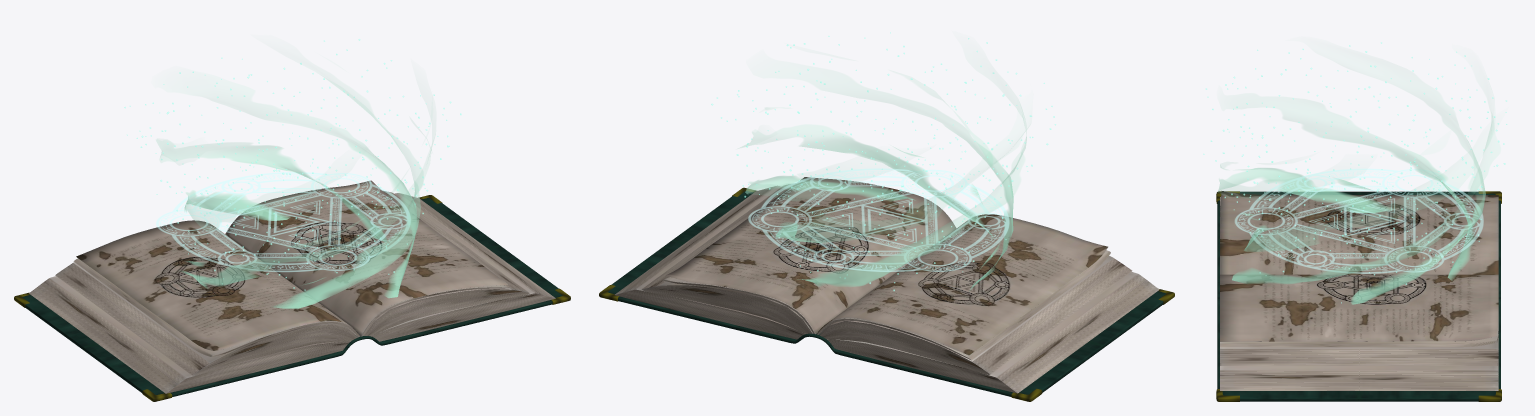
Rendered from hat-transformed.glb.
3 views of the same model, side by side, from view 1: azimuth 30°, elevation 25°; view 2: azimuth 150°, elevation 25°; view 3: azimuth 270°, elevation 25° (orthographic). The views are drawn at different scales.
Visible parts, largest first — view 1: Cube.001_Paper Block_0, Magic Storm_Magic Storm_0, Magic Circle_Magic Circle_0, Cover_Cover_0, Magic Particle_Magic Particle_0, Cover.Corner_Cover Corner_0; view 2: Cube.001_Paper Block_0, Magic Storm_Magic Storm_0, Magic Circle_Magic Circle_0, Cover_Cover_0, Magic Particle_Magic Particle_0, Cover.Corner_Cover Corner_0; view 3: Cube.001_Paper Block_0, Magic Storm_Magic Storm_0, Magic Circle_Magic Circle_0, Cover_Cover_0, Magic Particle_Magic Particle_0, Cover.Corner_Cover Corner_0.
Boxes of the visible parts, x1,y1,x2,y2 form: Cube.001_Paper Block_0: (29, 180, 555, 393); Magic Storm_Magic Storm_0: (156, 75, 435, 308); Magic Circle_Magic Circle_0: (156, 172, 410, 271); Cover_Cover_0: (22, 198, 562, 396); Magic Particle_Magic Particle_0: (124, 39, 461, 290); Cover.Corner_Cover Corner_0: (14, 195, 570, 401); Cube.001_Paper Block_0: (615, 177, 1159, 393); Magic Storm_Magic Storm_0: (738, 73, 1028, 291); Magic Circle_Magic Circle_0: (748, 168, 1009, 271); Cover_Cover_0: (608, 191, 1165, 396); Magic Particle_Magic Particle_0: (711, 32, 1055, 290); Cover.Corner_Cover Corner_0: (599, 187, 1174, 401); Cube.001_Paper Block_0: (1220, 191, 1498, 390); Magic Storm_Magic Storm_0: (1218, 86, 1499, 304); Magic Circle_Magic Circle_0: (1235, 168, 1483, 273); Cover_Cover_0: (1217, 191, 1500, 401); Magic Particle_Magic Particle_0: (1203, 42, 1507, 303); Cover.Corner_Cover Corner_0: (1216, 191, 1501, 401).
Bounding box in the file's own units: 19.65 × 10.3 × 12.72.
6 materials, 5 textured.
